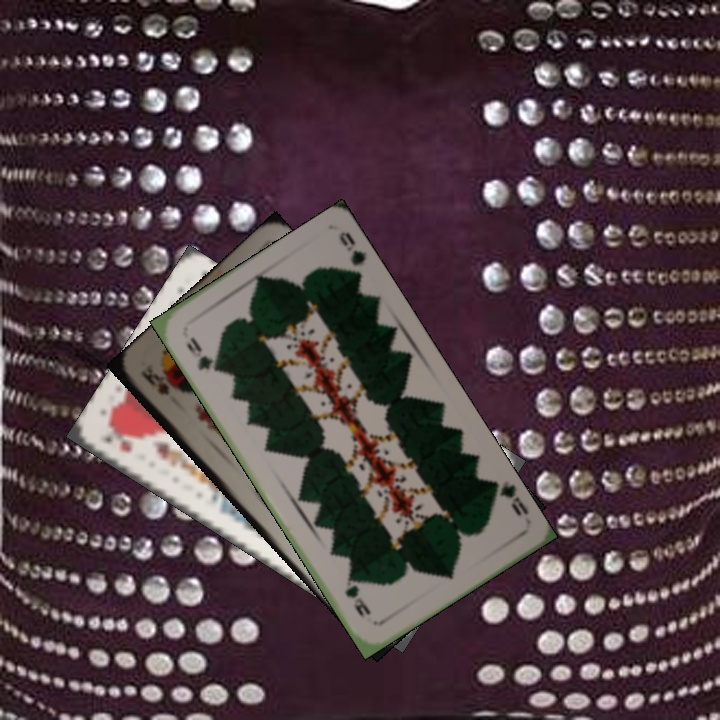G9: (487, 476, 532, 519), (182, 332, 223, 377)
HK: (101, 432, 136, 457)
SK: (137, 362, 173, 398)
